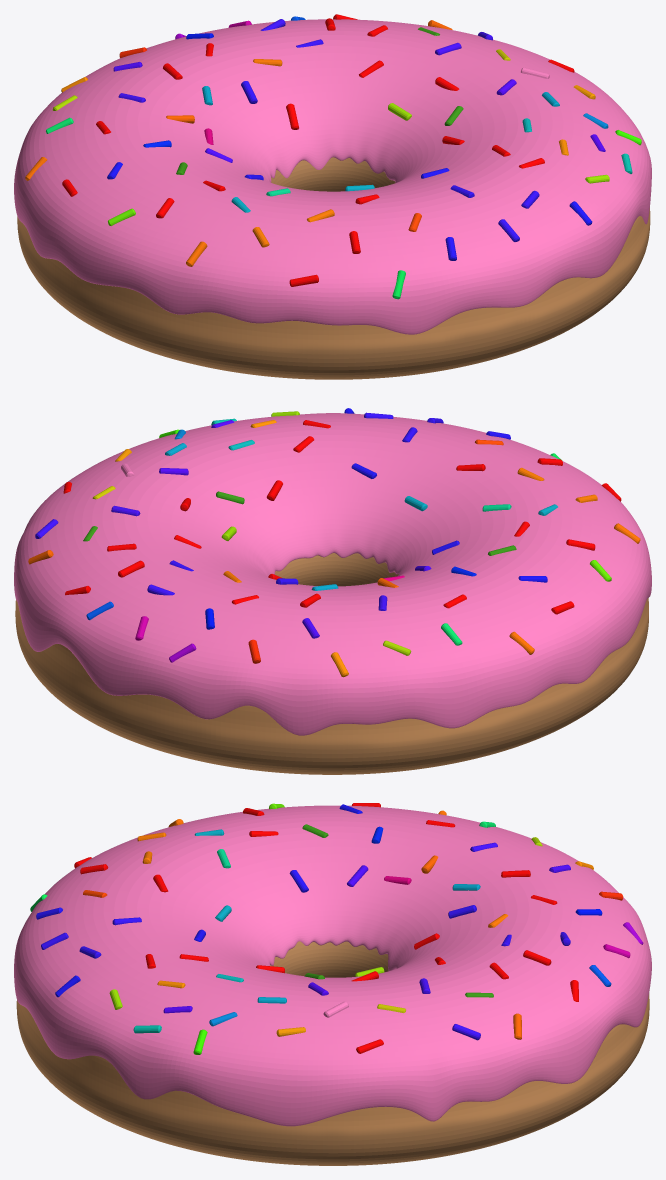
File: Donut.fbx
The picture shows the model from 3 angles, top to bottom: view 1: azimuth 30°, elevation 25°; view 2: azimuth 150°, elevation 25°; view 3: azimuth 270°, elevation 25°; orthographic projection.
Parts seen in each view (by area): view 1: Torus.001, Torus, Sphere.074; view 2: Torus.001, Torus, Sphere.074; view 3: Torus.001, Torus, Sphere.074.
Part boxes in pixels (bbox=[...]): Torus.001: bbox=[14, 19, 651, 334]; Torus: bbox=[17, 157, 650, 379]; Sphere.074: bbox=[25, 14, 641, 299]; Torus.001: bbox=[14, 413, 651, 735]; Torus: bbox=[15, 553, 648, 774]; Sphere.074: bbox=[28, 408, 640, 677]; Torus.001: bbox=[14, 805, 651, 1126]; Torus: bbox=[16, 941, 649, 1165]; Sphere.074: bbox=[30, 803, 643, 1054].
Bounding box in the file's own units: 145 × 39.09 × 145.
